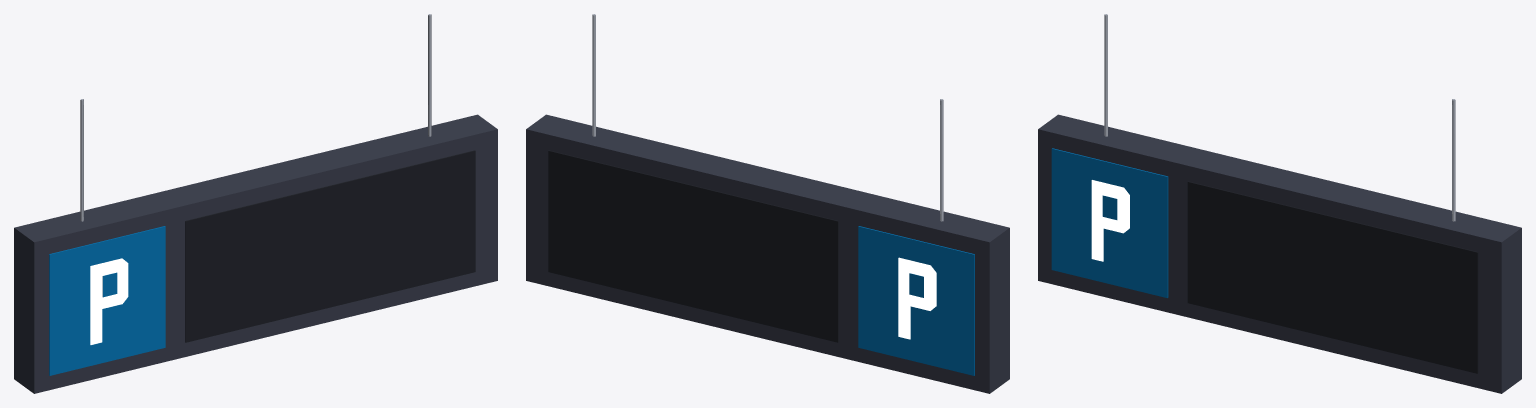
Rendered from prk-010.glb.
The picture shows the model from 3 angles, left to right: view 1: azimuth 30°, elevation 25°; view 2: azimuth 150°, elevation 25°; view 3: azimuth 330°, elevation 25°; orthographic projection.
Parts seen in each view (by area): view 1: sign_panel, dark_steel, safety_blue, display_white, steel; view 2: sign_panel, dark_steel, safety_blue, display_white, steel; view 3: sign_panel, dark_steel, safety_blue, display_white, steel.
Boxes of the visible parts, x1,y1,x2,y2 form: sign_panel: [185, 150, 475, 342]; dark_steel: [14, 114, 497, 393]; safety_blue: [49, 226, 165, 375]; display_white: [90, 258, 128, 344]; steel: [80, 14, 431, 221]; sign_panel: [548, 150, 838, 342]; dark_steel: [526, 114, 1009, 393]; safety_blue: [858, 226, 974, 375]; display_white: [898, 257, 936, 339]; steel: [592, 14, 943, 221]; sign_panel: [1187, 181, 1478, 373]; dark_steel: [1038, 114, 1521, 393]; safety_blue: [1051, 148, 1168, 298]; display_white: [1091, 180, 1129, 261]; steel: [1104, 14, 1455, 221].
Bounding box in the file's own units: 1.6 × 0.9 × 0.145.
